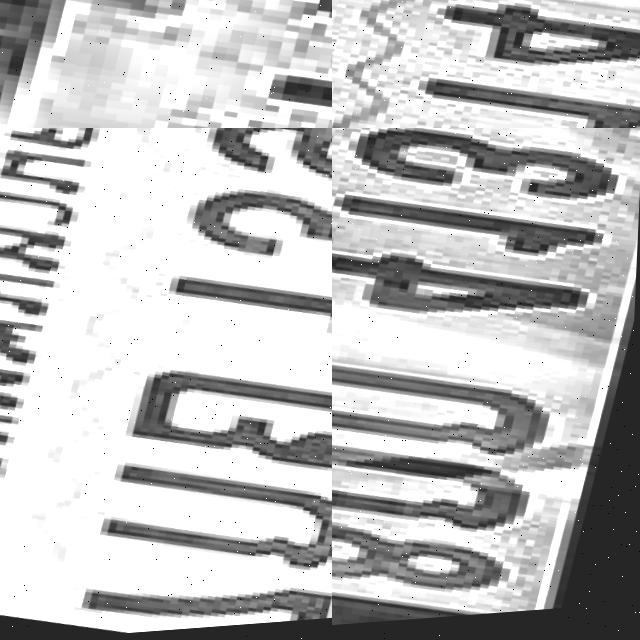license-plate: (0, 128, 332, 640), (332, 128, 640, 640), (0, 0, 332, 128), (332, 0, 640, 128)
